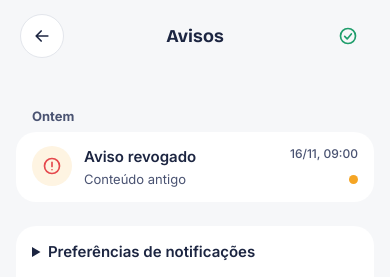
aviso revogado some imediatamente mesmo quando atualização posterior falha
Step 1. Click the button "Aviso revogado Conteúdo antigo 16/11, 09:00" → {"x": 195, "y": 167}, box [16,132,374,202]
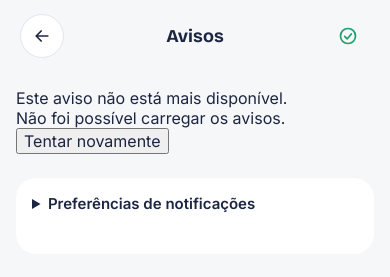
Expected: the button "Conteúdo antigo" is gone
